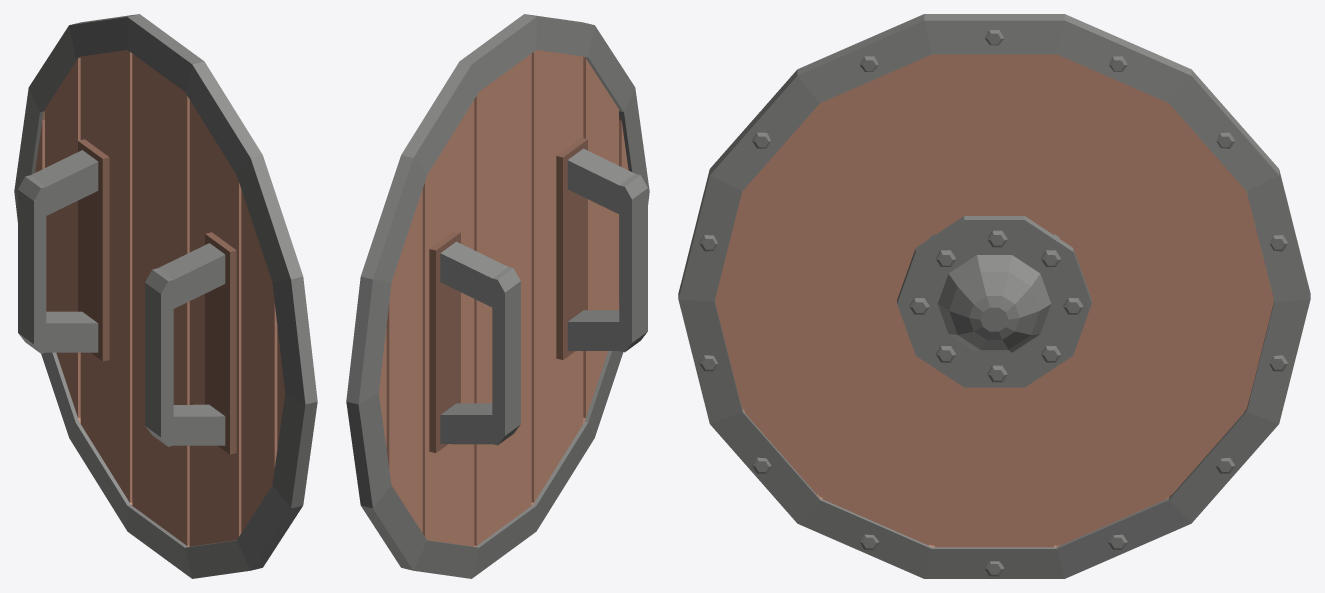
3 views of the same model, side by side, from view 1: azimuth 30°, elevation 25°; view 2: azimuth 150°, elevation 25°; view 3: azimuth 270°, elevation 25° (orthographic). The views are drawn at different scales.
Visible parts, largest first — view 1: Shield A; view 2: Shield A; view 3: Shield A.
Part boxes in pixels (box(x1,y1,x2,y2)): Shield A: box(14, 14, 317, 578); Shield A: box(346, 14, 649, 578); Shield A: box(678, 14, 1310, 578).
Bounding box in the file's own units: 0.2708 × 1.1 × 1.13.
